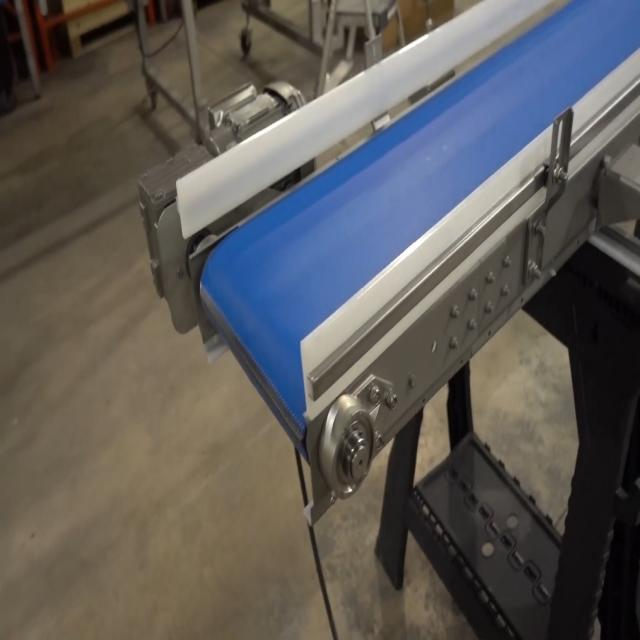Convoyeur: (141, 0, 640, 539)
